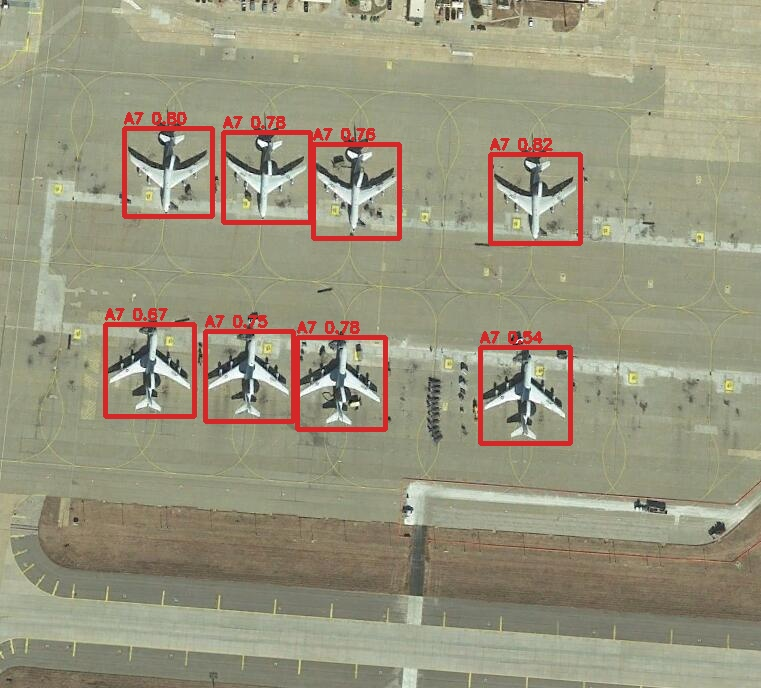A7: (480, 347, 570, 443), (105, 324, 194, 416), (297, 337, 385, 429), (313, 144, 399, 238), (490, 154, 580, 243), (205, 331, 293, 421), (223, 132, 310, 222), (124, 128, 212, 216)
